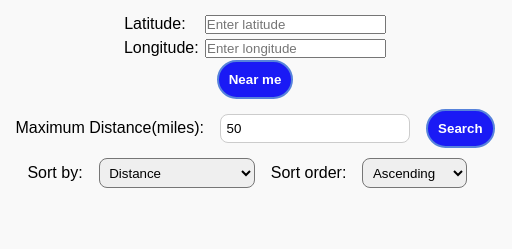
LocationSearch component › it should display an error when invalid max distance is entered
This screenshot has width=512, height=249.
In the field labelled "Latitude:": point(295, 24) [205,15,386,34], type "40.7031743"
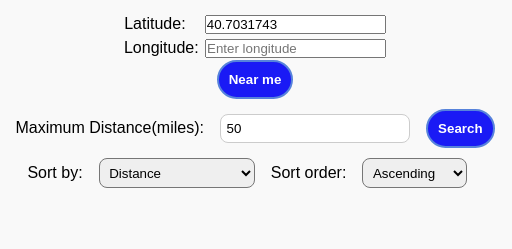
In the field labelled "Longitude:": point(296, 48) [205,39,386,58], type "1"
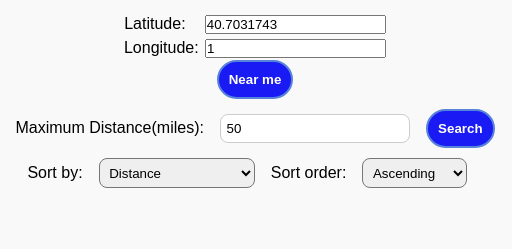
Replace the text in the field labelled "Maximum Distance(miles):" with "1001": point(315, 128) [220,114,410,143]
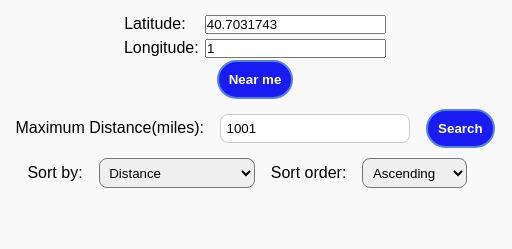
Click the button "Search": point(460, 128) [426,109,495,148]
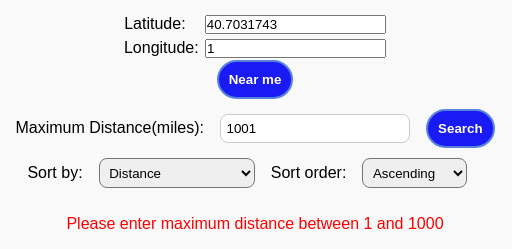
Expected: the text "Please enter maximum distance between 1 and 1000" is shown, [66,215,444,232]
